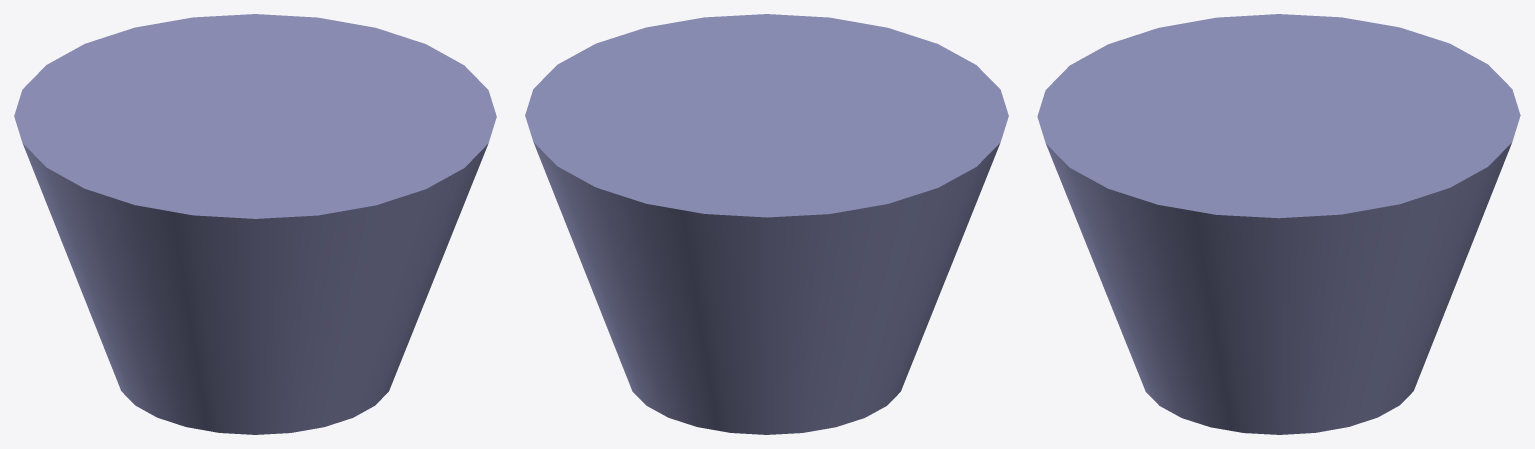
The model's file is debrisz5.fbx.
3 views of the same model, side by side, from view 1: azimuth 30°, elevation 25°; view 2: azimuth 150°, elevation 25°; view 3: azimuth 270°, elevation 25° (orthographic).
Visible parts, largest first — view 1: Cone07; view 2: Cone07; view 3: Cone07.
Boxes of the visible parts, x1,y1,x2,y2 form: Cone07: (14, 14, 496, 434); Cone07: (525, 14, 1008, 434); Cone07: (1037, 14, 1520, 434).
Bounding box in the file's own units: 1067 × 636 × 1067.
